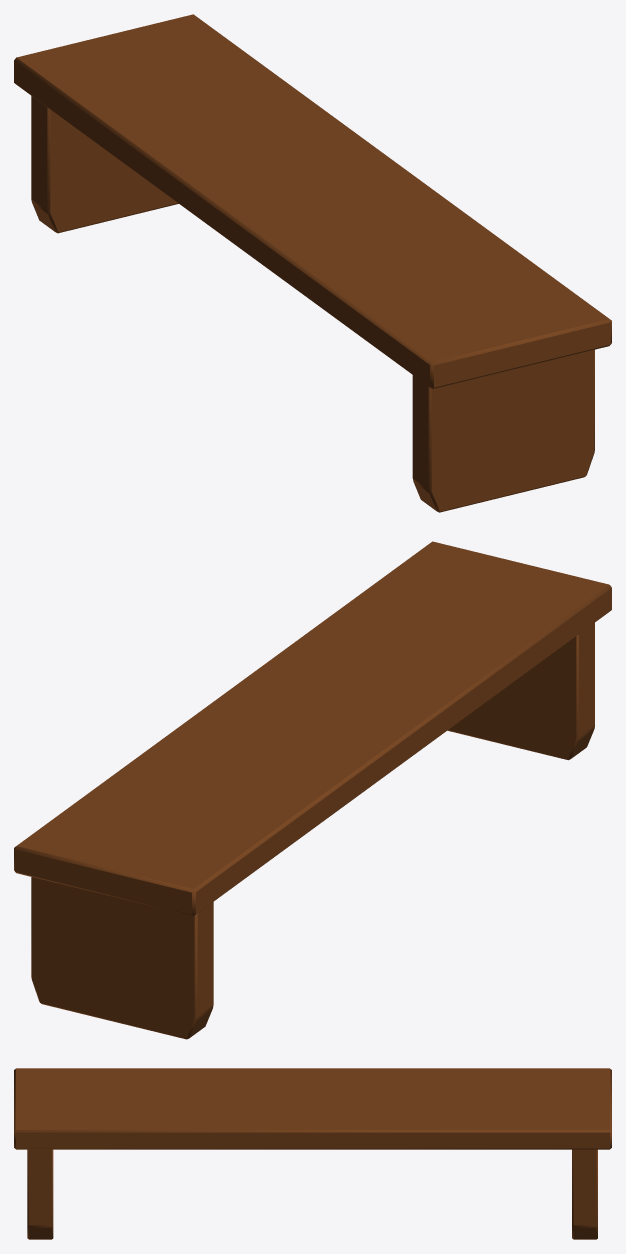
The picture shows the model from 3 angles, top to bottom: view 1: azimuth 30°, elevation 25°; view 2: azimuth 150°, elevation 25°; view 3: azimuth 270°, elevation 25°; orthographic projection. The views are drawn at different scales.
Visible parts, largest first — view 1: seat, end_support, opposite_support; view 2: seat, opposite_support, end_support; view 3: seat, end_support, opposite_support.
Boxes of the visible parts, x1=… form: seat: x1=14, y1=14, x2=611, y2=389; end_support: x1=412, y1=349, x2=594, y2=512; opposite_support: x1=31, y1=96, x2=178, y2=233; seat: x1=14, y1=541, x2=611, y2=916; opposite_support: x1=31, y1=877, x2=213, y2=1039; end_support: x1=447, y1=623, x2=594, y2=760; seat: x1=14, y1=1068, x2=611, y2=1149; end_support: x1=27, y1=1149, x2=53, y2=1239; opposite_support: x1=572, y1=1149, x2=597, y2=1239.
Bounding box in the file's own units: 0.3009 × 0.2547 × 1.2.
